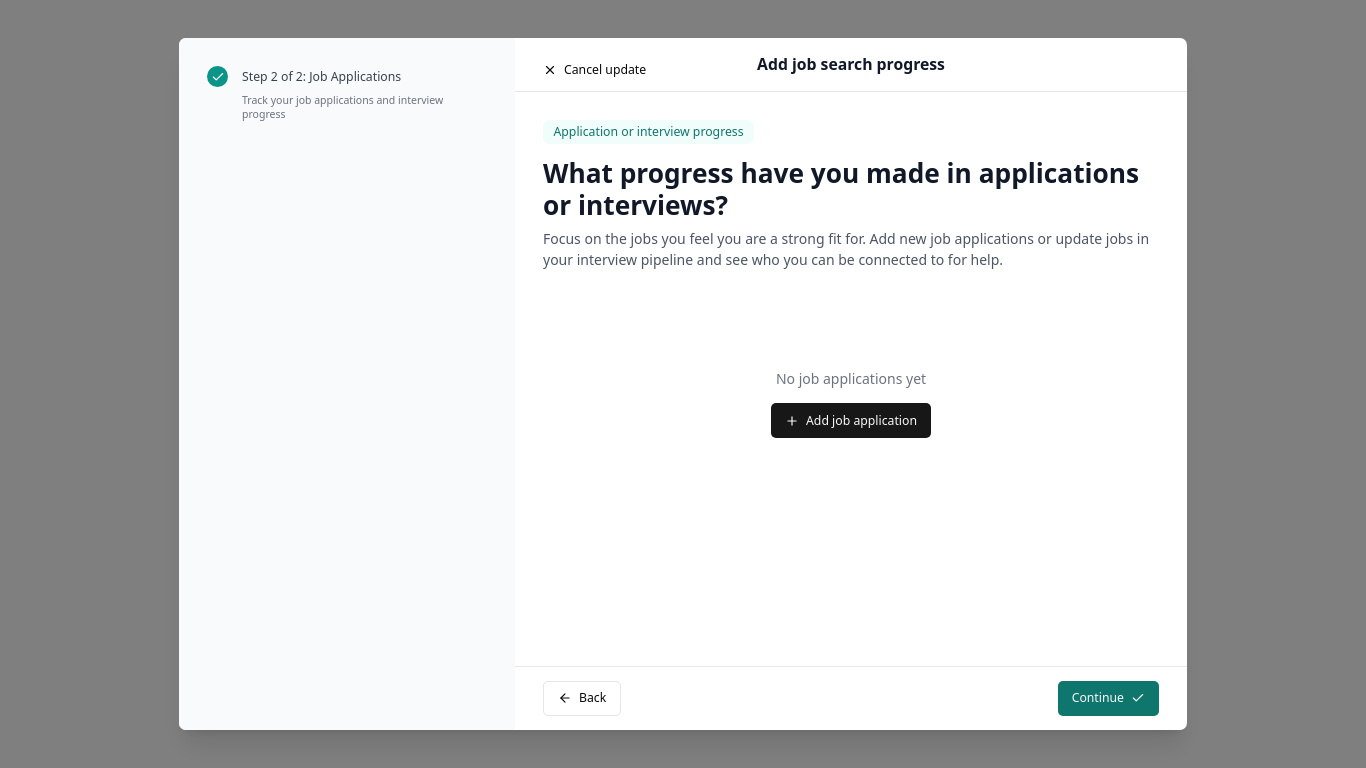
Scenario: AppliedToJobsStep › Add Application › should open modal when Add button is clicked
Click the button "Add job application": (851, 421) [771, 403, 931, 438]
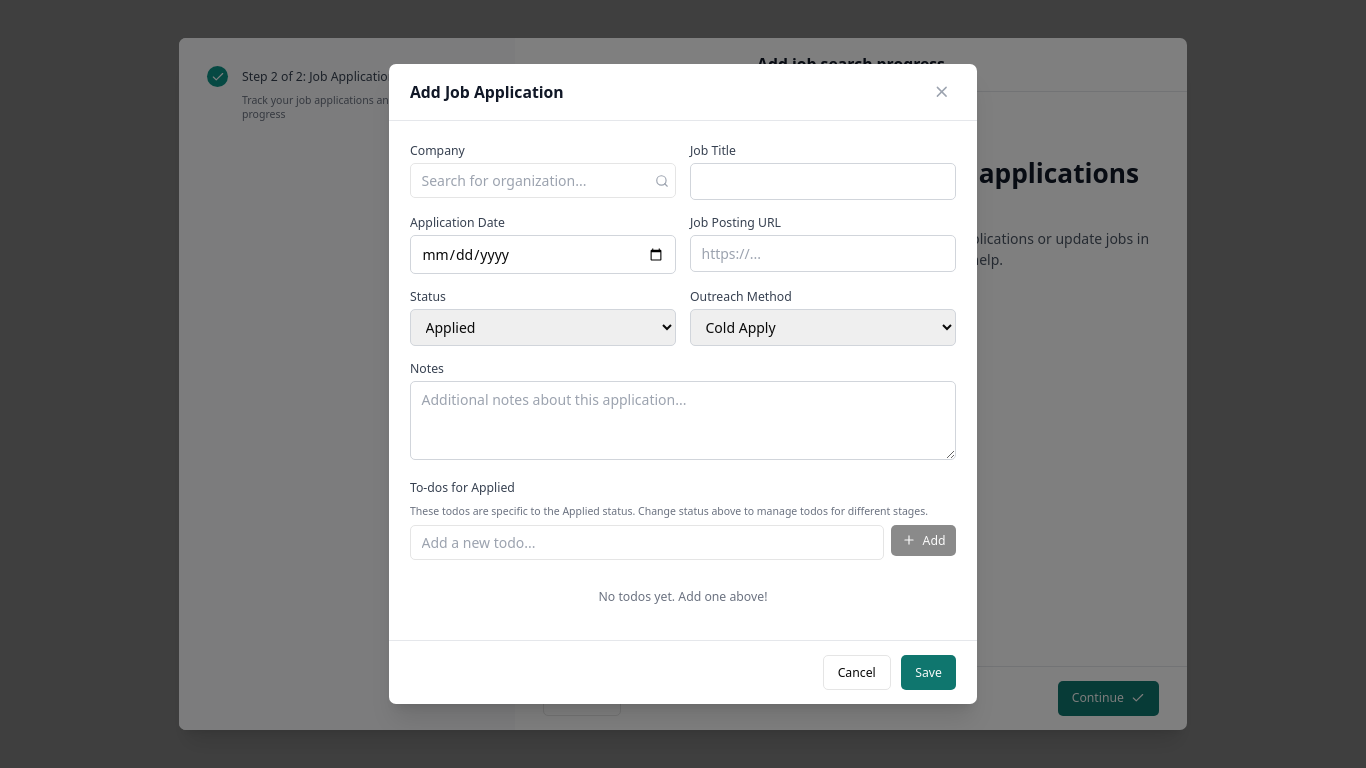
Expected: the heading "Add Job Application" is shown, [410, 80, 564, 104]
Expected: the field labelled "Job Title" is shown, [690, 163, 956, 200]
Expected: the date field labelled "Application Date" is shown, [410, 235, 676, 274]
